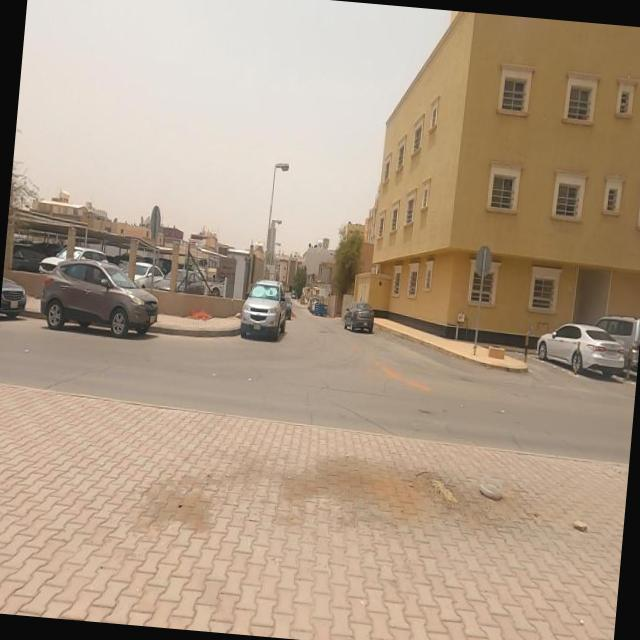debris: (449, 450, 528, 536), (170, 281, 231, 349)
